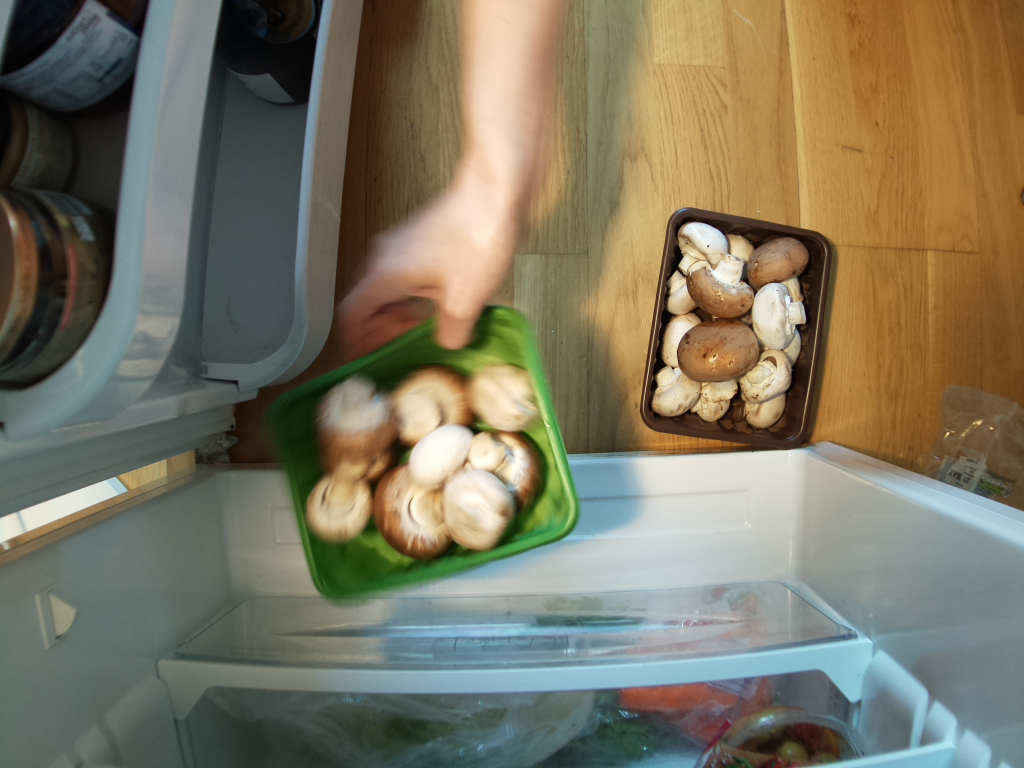mushrooms: (276, 304, 583, 600), (645, 211, 836, 444)
